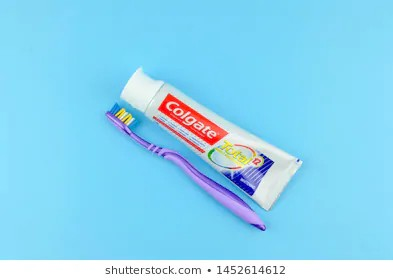colgate-total-150gm: (120, 59, 304, 212)
toothbrush: (103, 100, 169, 169)
